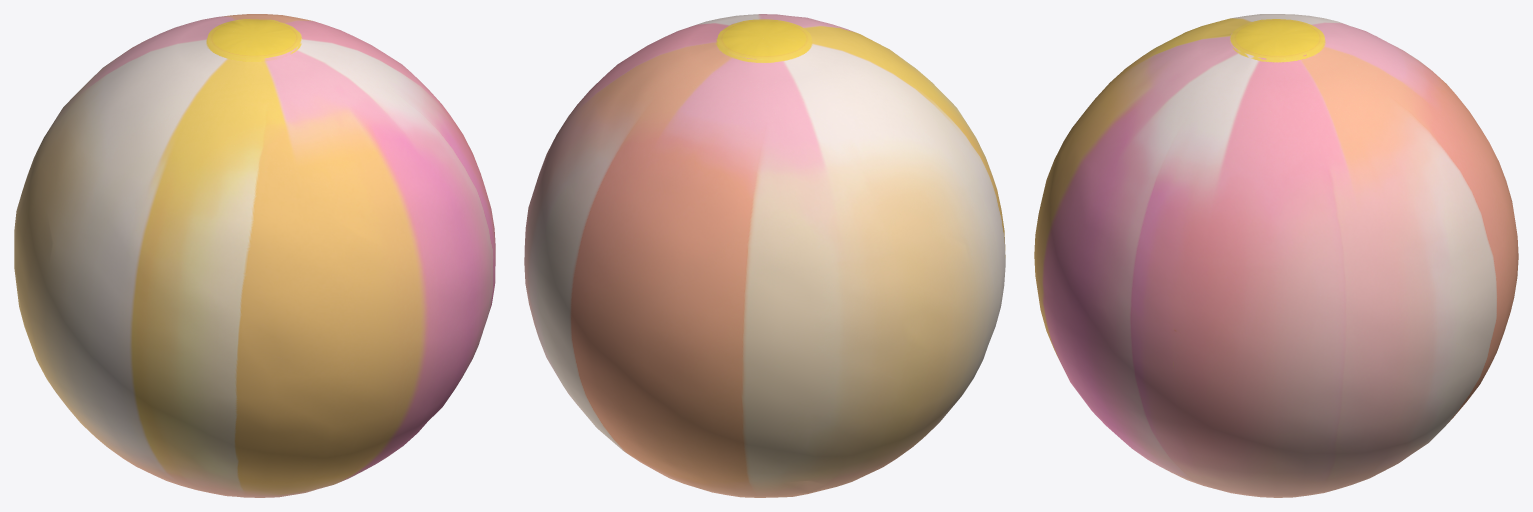
Rendered from beach-ball.glb.
3 views of the same model, side by side, from view 1: azimuth 30°, elevation 25°; view 2: azimuth 150°, elevation 25°; view 3: azimuth 270°, elevation 25° (orthographic).
Size of the model in its own units: 1.99 by 2 by 1.99.
1 material, 1 textured.
